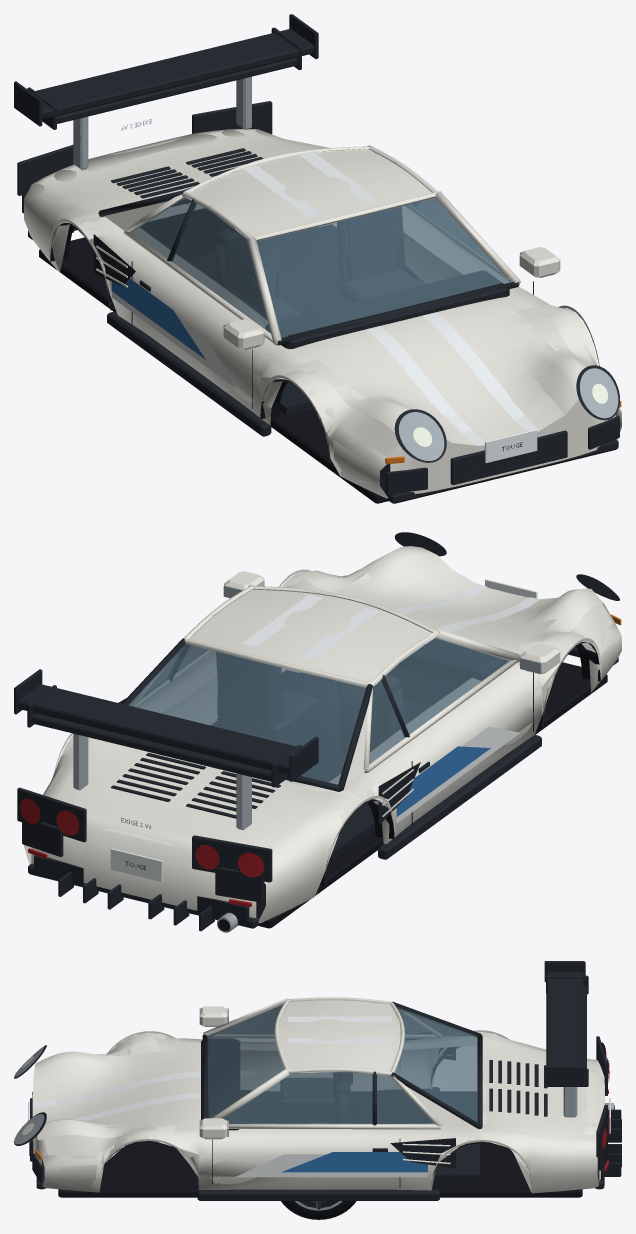
Rendered from exige.glb.
3 views of the same model, one above another, from view 1: azimuth 30°, elevation 25°; view 2: azimuth 150°, elevation 25°; view 3: azimuth 270°, elevation 25° (orthographic). The views are drawn at different scales.
Parts seen in each view (by area): view 1: LOD0_body, LOD0_cabin, LOD0_glass, LOD1_glass, LOD1_body, LOD1_hood, LOD0_hood, LOD1_cabin, LOD1_spoiler_gt, LOD0_spoiler_stock, LOD0_spoiler_gt, LOD0_vinyl_apex (+3 smaller); view 2: LOD0_body, LOD0_cabin, LOD1_body, LOD0_glass, LOD1_glass, LOD1_spoiler_gt, LOD1_hood, LOD0_hood, LOD0_spoiler_stock, LOD0_spoiler_gt, LOD1_cabin, LOD0_vinyl_apex (+3 smaller); view 3: LOD0_body, LOD0_cabin, LOD1_body, LOD0_glass, LOD1_glass, LOD0_hood, LOD1_hood, LOD0_vinyl_apex, LOD1_spoiler_gt, LOD1_cabin, LOD0_vinyl_twin, LOD0_spoiler_gt (+3 smaller).
Part boxes in pixels (x1,y1,x2,y2): LOD0_body: (17, 101, 621, 503); LOD0_cabin: (98, 145, 520, 414); LOD0_glass: (131, 186, 510, 337); LOD1_glass: (132, 188, 509, 337); LOD1_body: (18, 101, 621, 503); LOD1_hood: (318, 312, 580, 445); LOD0_hood: (283, 293, 586, 442); LOD1_cabin: (101, 146, 520, 414); LOD1_spoiler_gt: (14, 29, 318, 126); LOD0_spoiler_stock: (27, 27, 301, 169); LOD0_spoiler_gt: (14, 14, 318, 126); LOD0_vinyl_apex: (111, 235, 469, 388); LOD0_body: (17, 532, 621, 932); LOD0_cabin: (121, 584, 519, 860); LOD1_body: (17, 532, 621, 932); LOD0_glass: (128, 637, 508, 784); LOD1_glass: (129, 638, 509, 784); LOD1_spoiler_gt: (16, 669, 311, 781); LOD1_hood: (333, 546, 562, 647); LOD0_hood: (313, 546, 603, 654); LOD0_spoiler_stock: (27, 685, 301, 829); LOD0_spoiler_gt: (14, 670, 318, 781); LOD1_cabin: (125, 585, 512, 860); LOD0_vinyl_apex: (192, 658, 520, 823); LOD0_body: (14, 1006, 621, 1200); LOD0_cabin: (201, 997, 482, 1181); LOD1_body: (15, 1006, 614, 1200); LOD0_glass: (207, 1004, 477, 1124); LOD1_glass: (207, 1005, 477, 1124); LOD0_hood: (32, 1042, 200, 1140); LOD1_hood: (32, 1050, 200, 1128); LOD0_vinyl_apex: (235, 1152, 427, 1177); LOD1_spoiler_gt: (544, 972, 582, 1076); LOD1_cabin: (202, 998, 479, 1181); LOD0_vinyl_twin: (36, 1016, 391, 1120); LOD0_spoiler_gt: (544, 961, 585, 1086).
Bounding box in the file's own units: 2.06 × 1.59 × 4.34.
